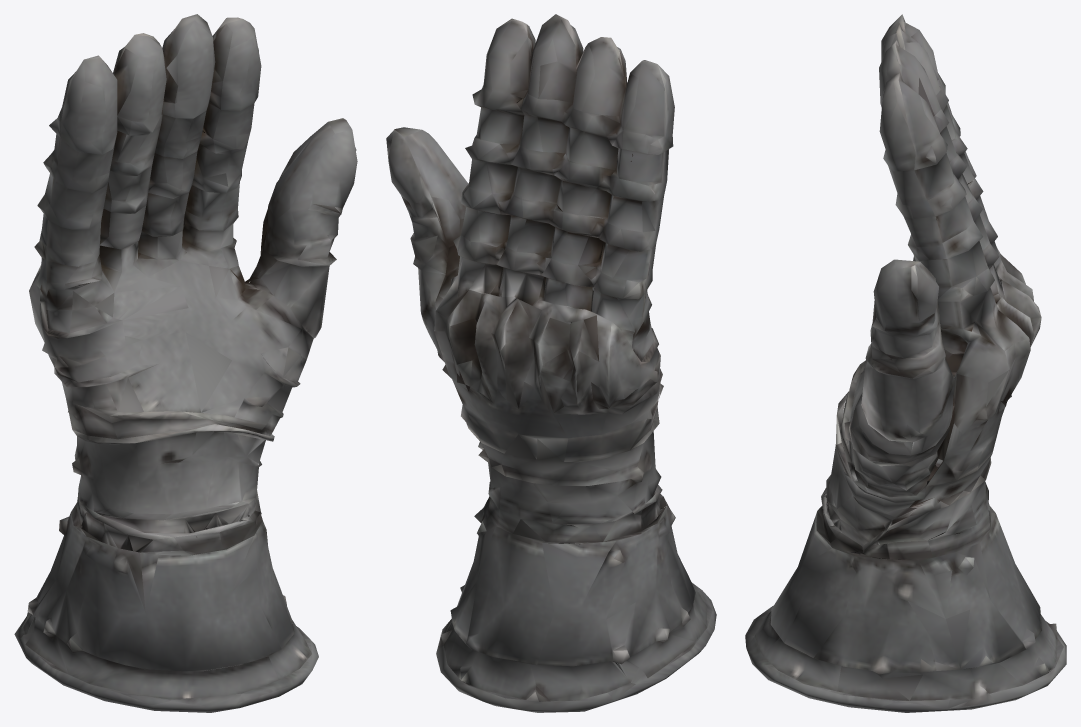
File: gauntlet-8k-v3b.glb
The picture shows the model from 3 angles, left to right: view 1: azimuth 30°, elevation 25°; view 2: azimuth 150°, elevation 25°; view 3: azimuth 270°, elevation 25°; orthographic projection. The views are drawn at different scales.
Parts seen in each view (by area): view 1: gauntlet; view 2: gauntlet; view 3: gauntlet.
Part boxes in pixels (<box>): gauntlet: <box>14,14,357,712</box>; gauntlet: <box>386,14,716,712</box>; gauntlet: <box>745,14,1066,712</box>.
Size of the model in its own units: 0.5018 by 1 by 0.4632.
Materials: 1 (1 with a texture image).
